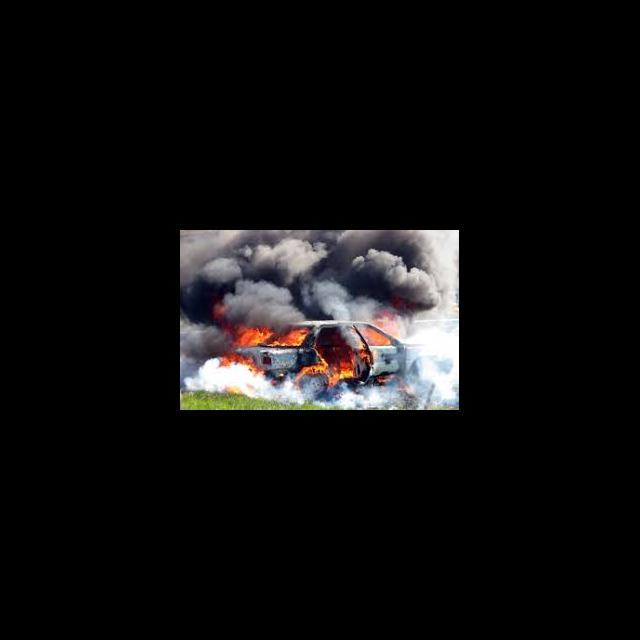Fire: (324, 347, 357, 385), (219, 348, 264, 374), (369, 311, 402, 345), (270, 325, 312, 347), (233, 324, 274, 346), (206, 300, 228, 322), (292, 360, 326, 374), (227, 385, 242, 396)
Smoke: (180, 230, 458, 300), (406, 302, 460, 404), (230, 300, 368, 320), (315, 388, 402, 408), (248, 378, 306, 404), (182, 351, 218, 392), (182, 325, 232, 351)
